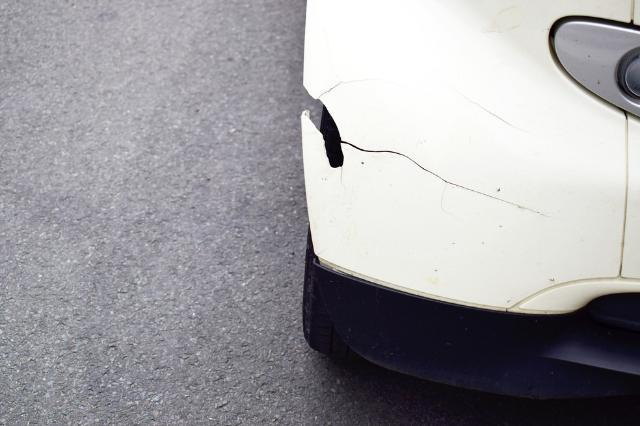Bumper: (300, 74, 541, 262)
